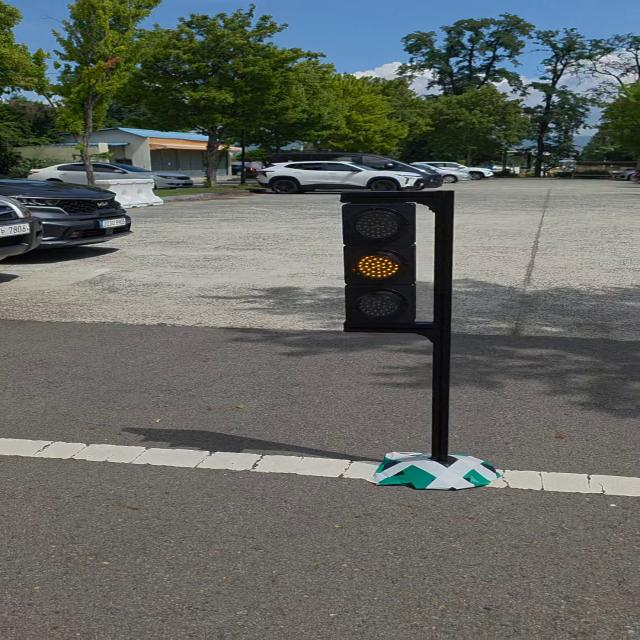yellow: (342, 201, 415, 329)
